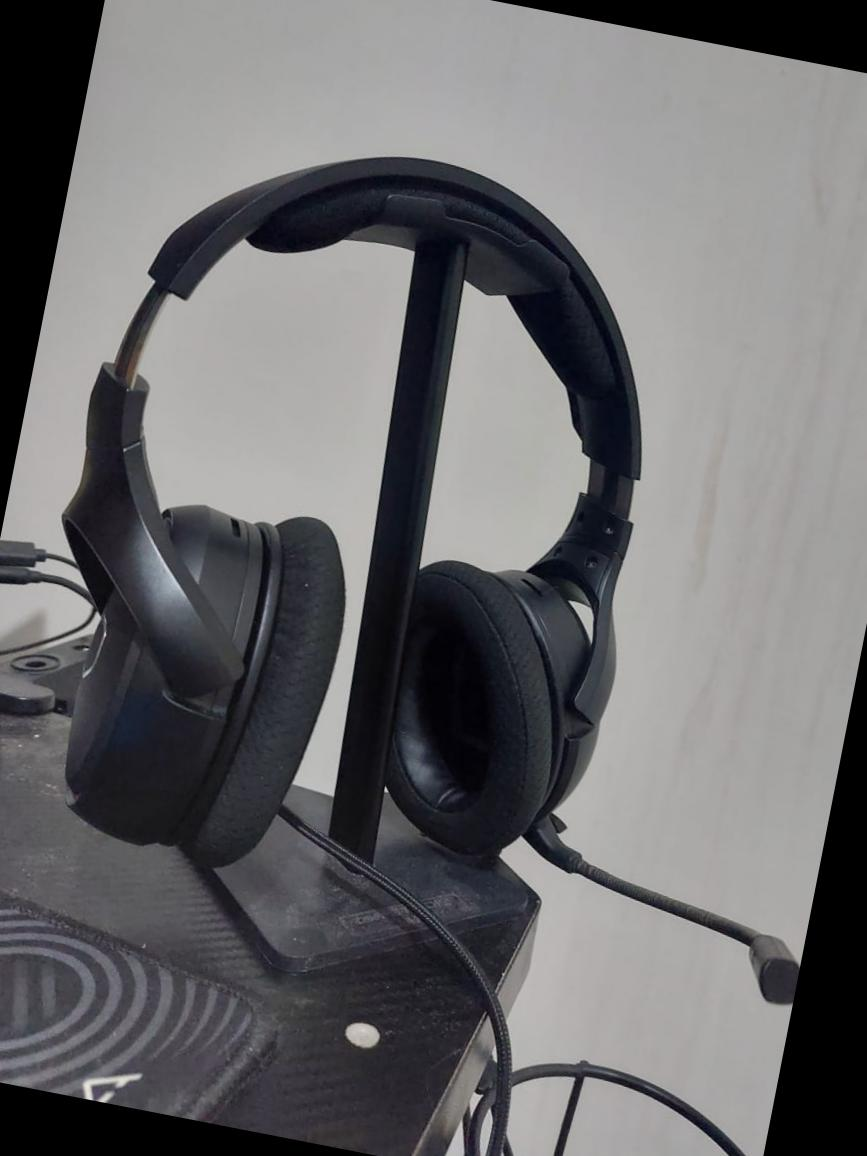Headset: (0, 81, 866, 1049)
